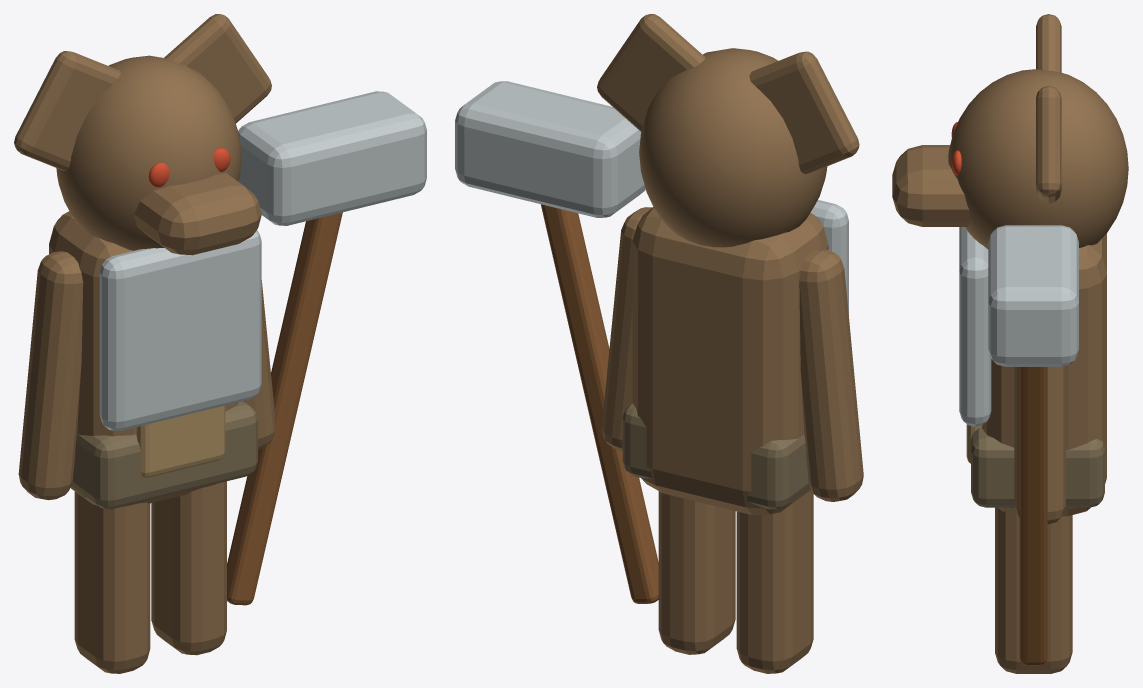
The model's file is kobold_guard_4006.glb.
The picture shows the model from 3 angles, left to right: view 1: azimuth 30°, elevation 25°; view 2: azimuth 150°, elevation 25°; view 3: azimuth 270°, elevation 25°; orthographic projection. The views are drawn at different scales.
Visible parts, largest first — view 1: Guard scrap breastplate, Head, Heavy hammer head, Hammer haft, Clawed leg, Kobold arm, Clawed leg.001, Rag waist wrap, Dog-like muzzle, Perked pointed ear, Scaled kobold torso, Perked pointed ear.001 (+2 smaller); view 2: Scaled kobold torso, Head, Heavy hammer head, Kobold arm, Clawed leg, Hammer haft, Clawed leg.001, Perked pointed ear, Perked pointed ear.001, Rag waist wrap, Kobold arm.001, Guard scrap breastplate; view 3: Head, Heavy hammer head, Scaled kobold torso, Hammer haft, Clawed leg.001, Guard scrap breastplate, Rag waist wrap, Dog-like muzzle, Kobold arm.001, Perked pointed ear.001, Perked pointed ear.
Part boxes in pixels (bbox=[...]): Guard scrap breastplate: bbox=[99, 230, 261, 430]; Head: bbox=[56, 55, 241, 250]; Heavy hammer head: bbox=[238, 91, 426, 225]; Hammer haft: bbox=[227, 212, 342, 605]; Clawed leg: bbox=[74, 491, 150, 673]; Kobold arm: bbox=[18, 251, 83, 500]; Clawed leg.001: bbox=[151, 481, 226, 655]; Rag waist wrap: bbox=[71, 401, 257, 509]; Dog-like muzzle: bbox=[134, 173, 261, 255]; Perked pointed ear: bbox=[14, 51, 120, 170]; Scaled kobold torso: bbox=[49, 211, 238, 506]; Perked pointed ear.001: bbox=[164, 14, 271, 123]; Scaled kobold torso: bbox=[632, 207, 828, 515]; Head: bbox=[639, 48, 827, 247]; Heavy hammer head: bbox=[455, 81, 645, 217]; Kobold arm: bbox=[799, 248, 863, 501]; Clawed leg: bbox=[736, 489, 813, 673]; Hammer haft: bbox=[541, 204, 658, 603]; Clawed leg.001: bbox=[658, 491, 735, 654]; Perked pointed ear: bbox=[749, 51, 859, 174]; Perked pointed ear.001: bbox=[597, 14, 705, 131]; Rag waist wrap: bbox=[622, 403, 810, 509]; Kobold arm.001: bbox=[601, 207, 652, 451]; Guard scrap breastplate: bbox=[810, 200, 848, 314]; Head: bbox=[948, 69, 1128, 249]; Heavy hammer head: bbox=[988, 225, 1078, 366]; Scaled kobold torso: bbox=[982, 233, 1106, 516]; Hammer haft: bbox=[1019, 367, 1047, 665]; Clawed leg.001: bbox=[995, 507, 1072, 673]; Guard scrap breastplate: bbox=[959, 227, 991, 426]; Rag waist wrap: bbox=[971, 426, 1104, 507]; Dog-like muzzle: bbox=[892, 145, 970, 226]; Kobold arm.001: bbox=[1014, 366, 1065, 524]; Perked pointed ear.001: bbox=[1036, 86, 1061, 203]; Perked pointed ear: bbox=[1036, 14, 1061, 72].
Bounding box in the file's own units: 2.01 × 3.06 × 1.1.
